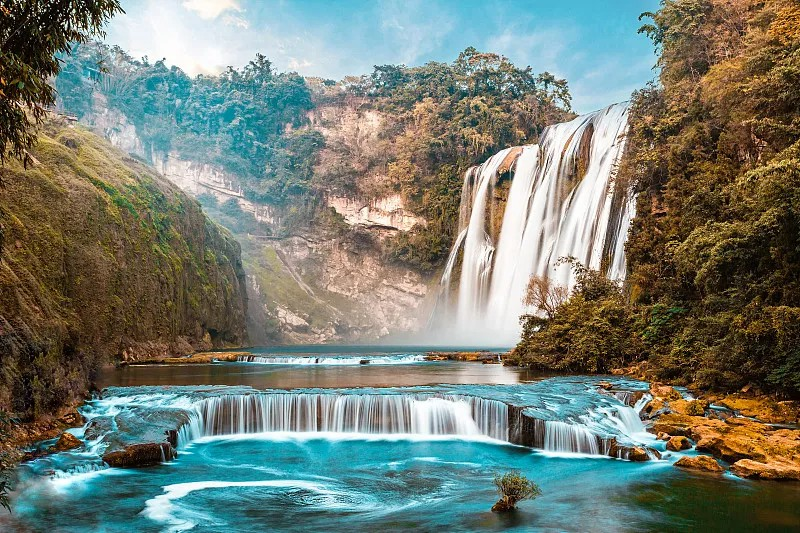Huangguoshu: (434, 102, 638, 345)
